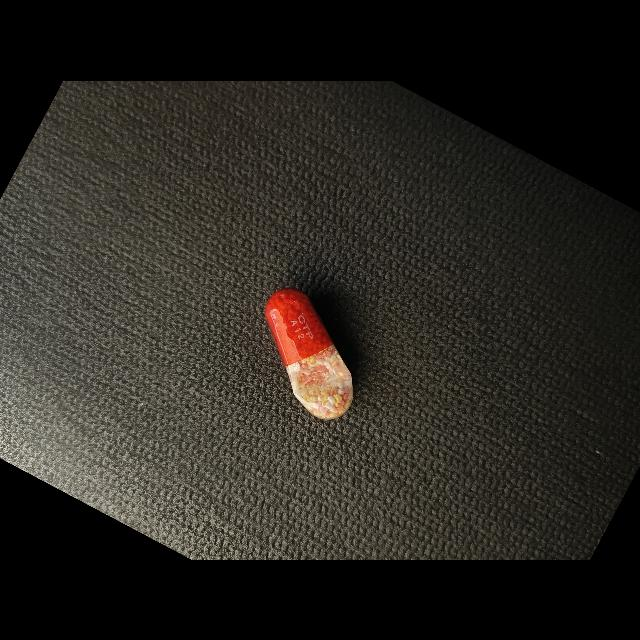Defective Capsule: (265, 288, 353, 419)
